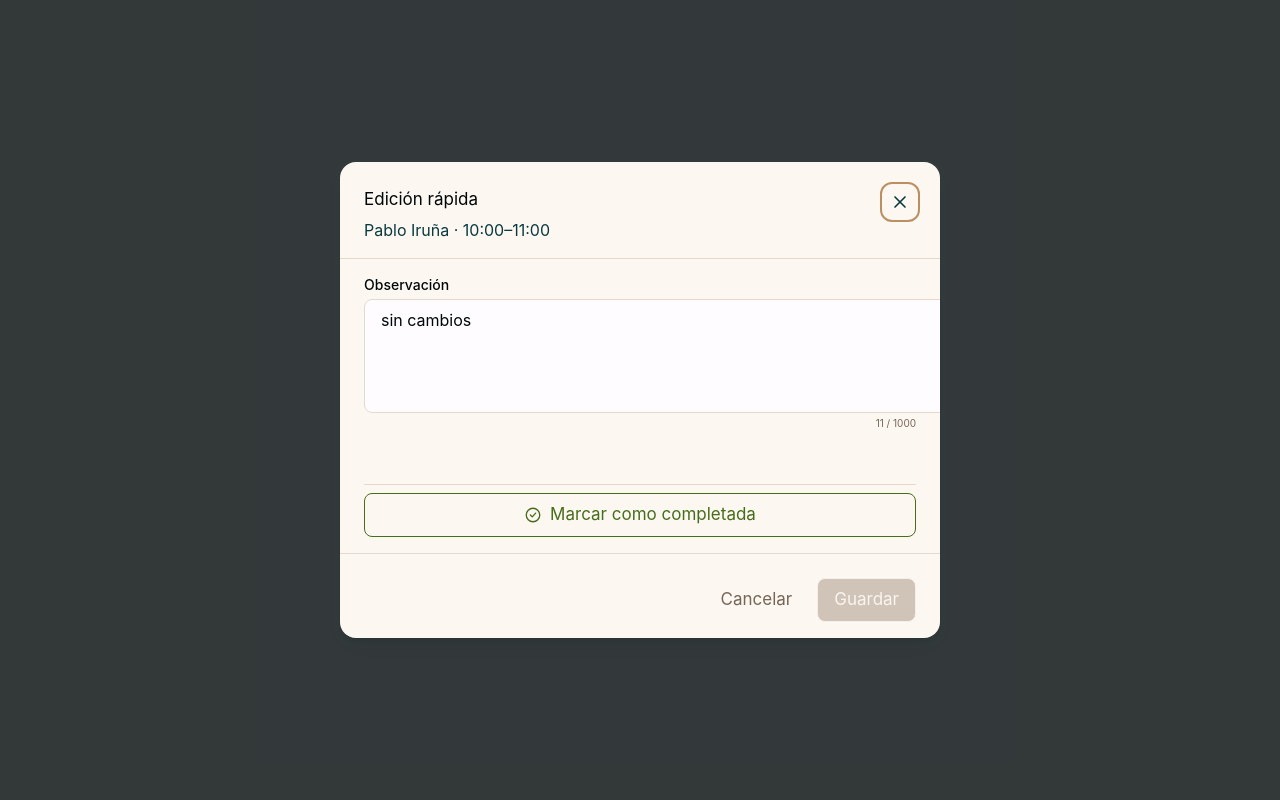
Test case: CitaQuickEditModal — Save gating › Save enables once completion is armed even with no note change
Check: the button "Guardar" is disabled, box [817,578,916,622]
Click the button "Marcar como completada". click: (640, 514)
box: [364,492,916,536]
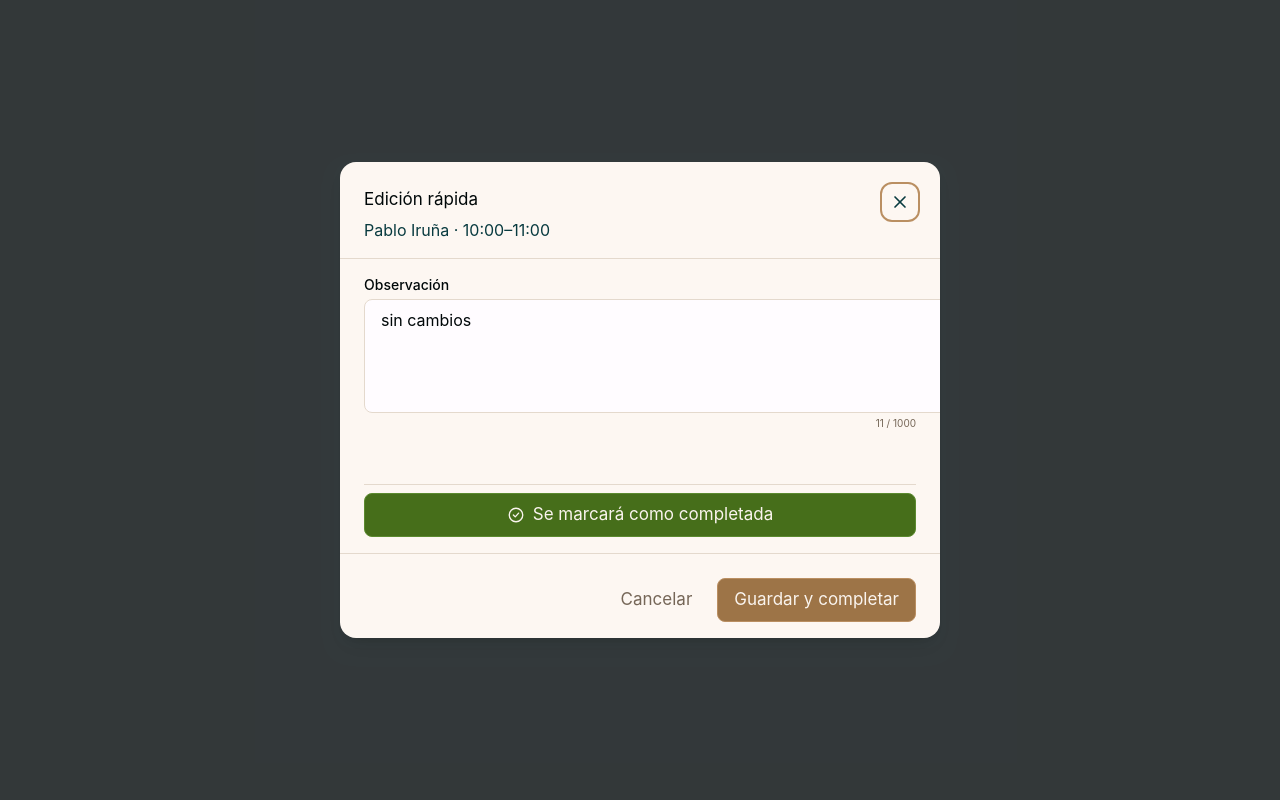
Check: the button "Guardar y completar" is enabled, box [717,578,916,622]
